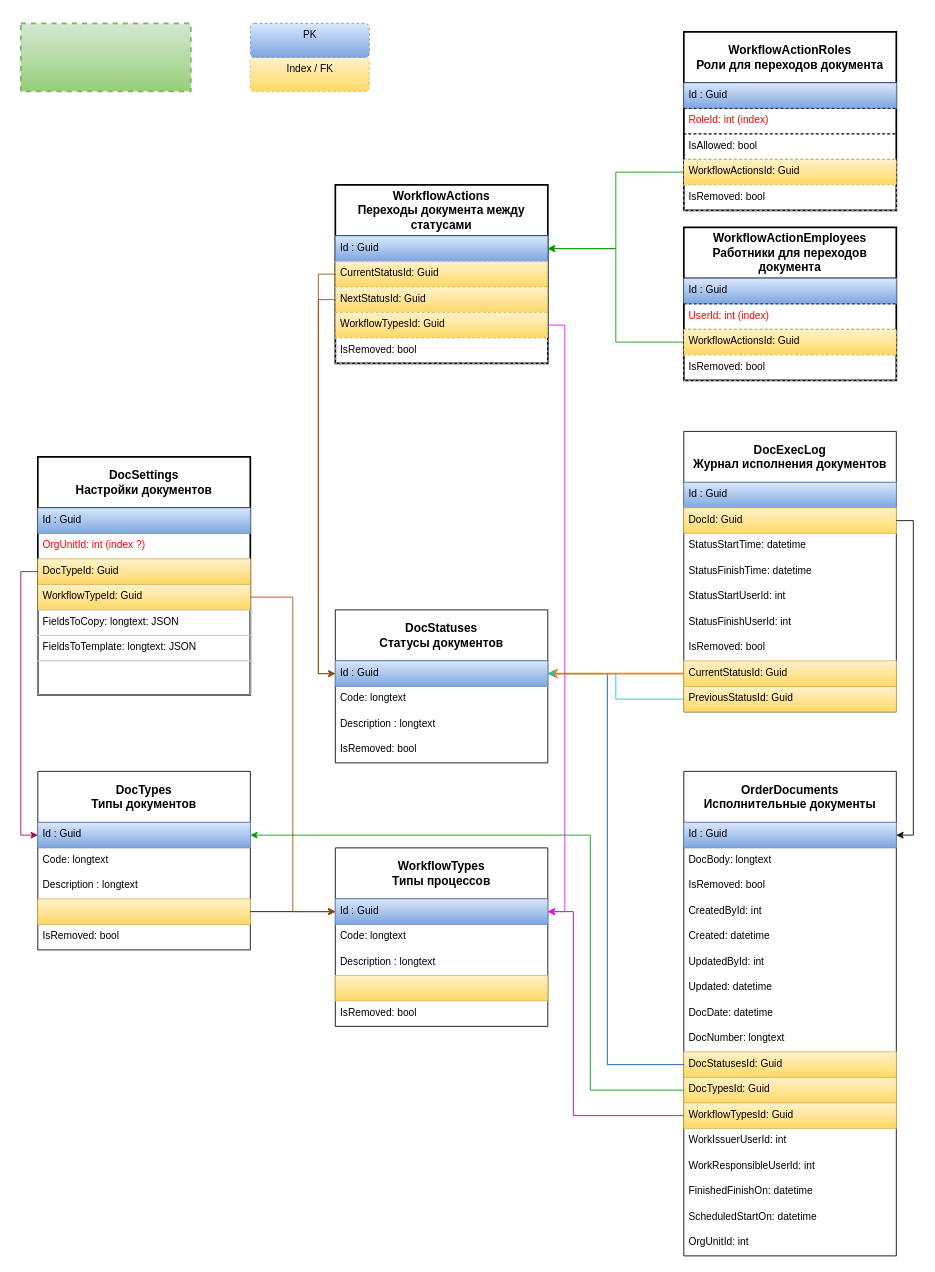
Some shapes in this 935 by 1272 pixel diagram are drawn without their labels. The shapes that lost their labels are listed below. From the top down, each one's centre as x and y in pixels, then its label:
(x=105, y=57): DocWorkflow
(x=143, y=677): UserInterface: longtext: JSON | Настройки отображения на форме
(x=143, y=911): DefaultWorkflowId: Guid
(x=441, y=988): DefaultTemplateId: Guid
